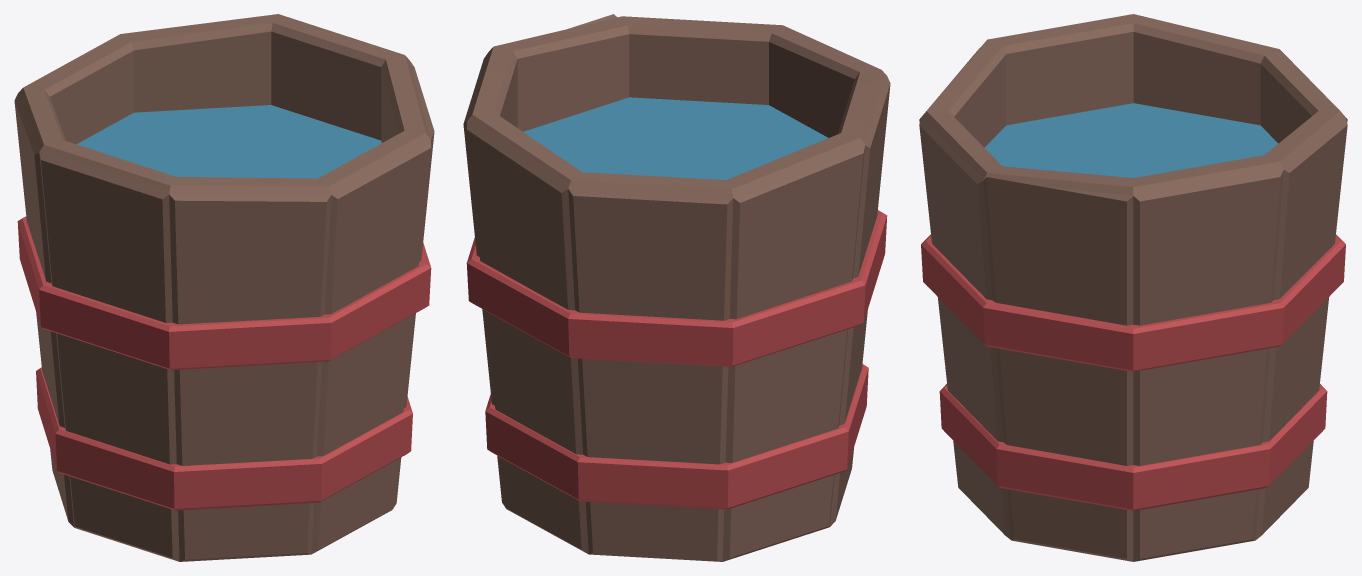
Rendered from bucket_b002.glb.
The picture shows the model from 3 angles, left to right: view 1: azimuth 30°, elevation 25°; view 2: azimuth 150°, elevation 25°; view 3: azimuth 270°, elevation 25°; orthographic projection. The views are drawn at different scales.
Parts seen in each view (by area): view 1: bucket_b002; view 2: bucket_b002; view 3: bucket_b002.
Part boxes in pixels (x1=…): bucket_b002: x1=14, y1=14, x2=434, y2=561; bucket_b002: x1=463, y1=14, x2=890, y2=561; bucket_b002: x1=919, y1=14, x2=1347, y2=561.
Size of the model in its own units: 0.2707 by 0.2714 by 0.2707.
1 material, 1 textured.
